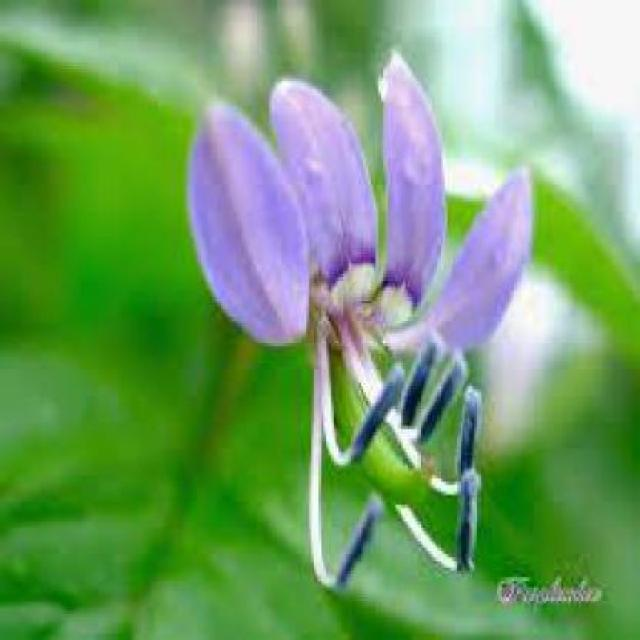flower: (174, 58, 532, 576)
